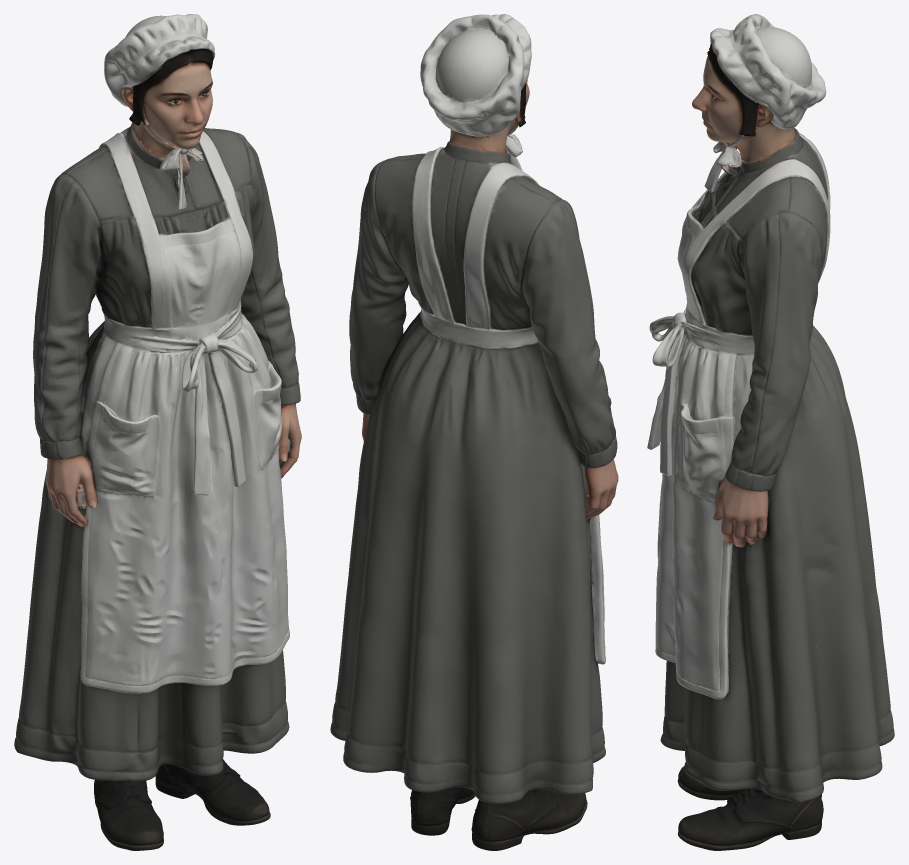
Rendered from grace.glb.
The picture shows the model from 3 angles, left to right: view 1: azimuth 30°, elevation 25°; view 2: azimuth 150°, elevation 25°; view 3: azimuth 270°, elevation 25°; orthographic projection.
Visible parts, largest first — view 1: mesh; view 2: mesh; view 3: mesh.
Part boxes in pixels (x1,y1,x2,y2): mesh: (14, 14, 301, 850); mesh: (330, 14, 618, 850); mesh: (647, 14, 894, 850).
Size of the model in its own units: 0.5391 by 1.6 by 0.4506.
Materials: 1 (1 with a texture image).
